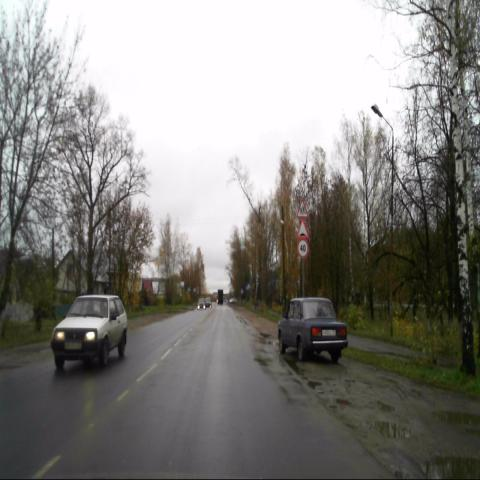1_17: (296, 218, 309, 238)
1_23: (296, 197, 309, 219)
3_24: (297, 238, 309, 257)
